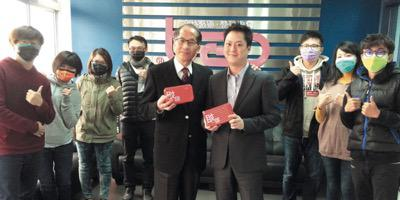with_mask: (360, 47, 388, 73), (14, 37, 39, 64), (334, 51, 356, 75), (301, 42, 320, 63), (89, 58, 108, 77), (54, 64, 73, 83), (129, 45, 144, 63)
without_mask: (221, 39, 247, 65), (175, 35, 197, 59)
